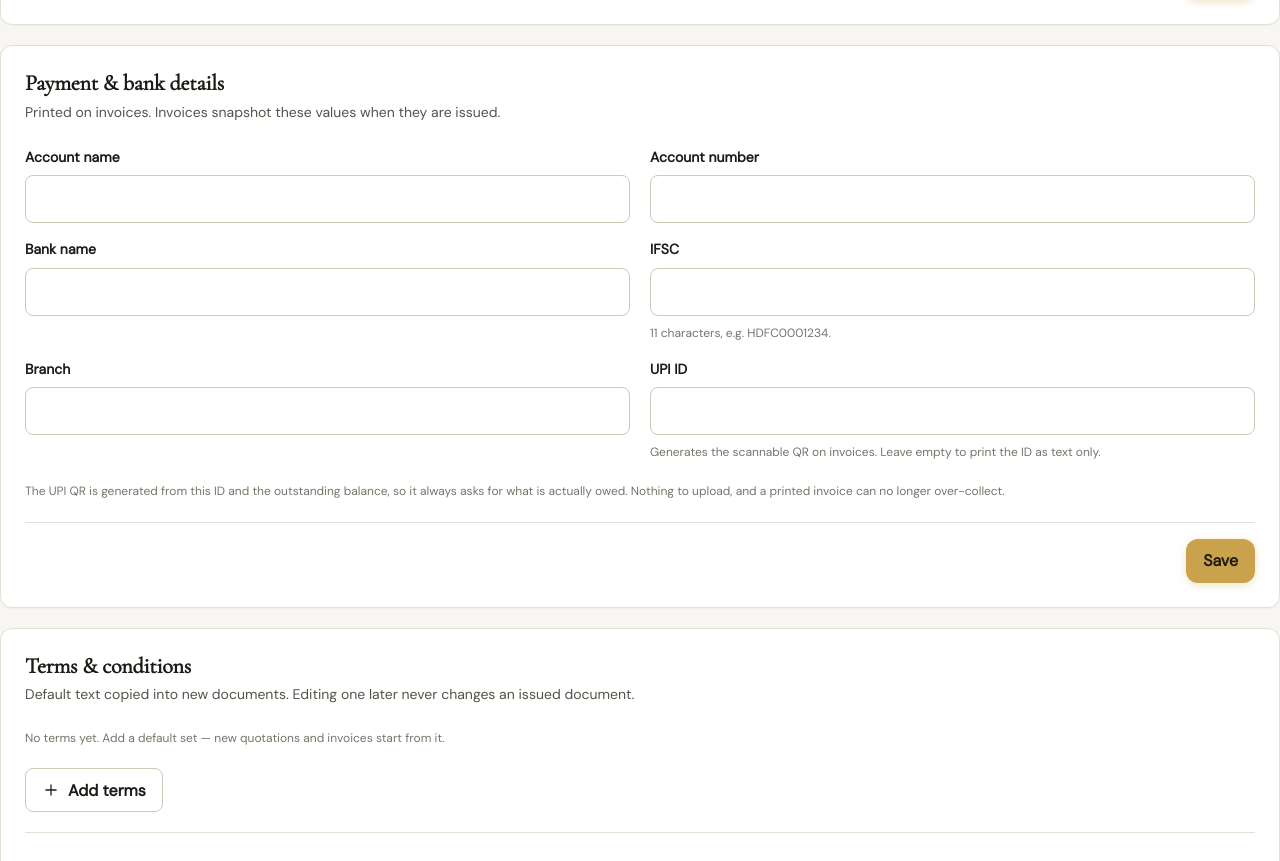
Test: settings — UPI ID › rejects a VPA with nothing on one side of the @
(page scrolled)
Type "@okaxis" into the field labelled "UPI ID".
click(952, 411); type("@okaxis")  # box [650,387,1255,435]
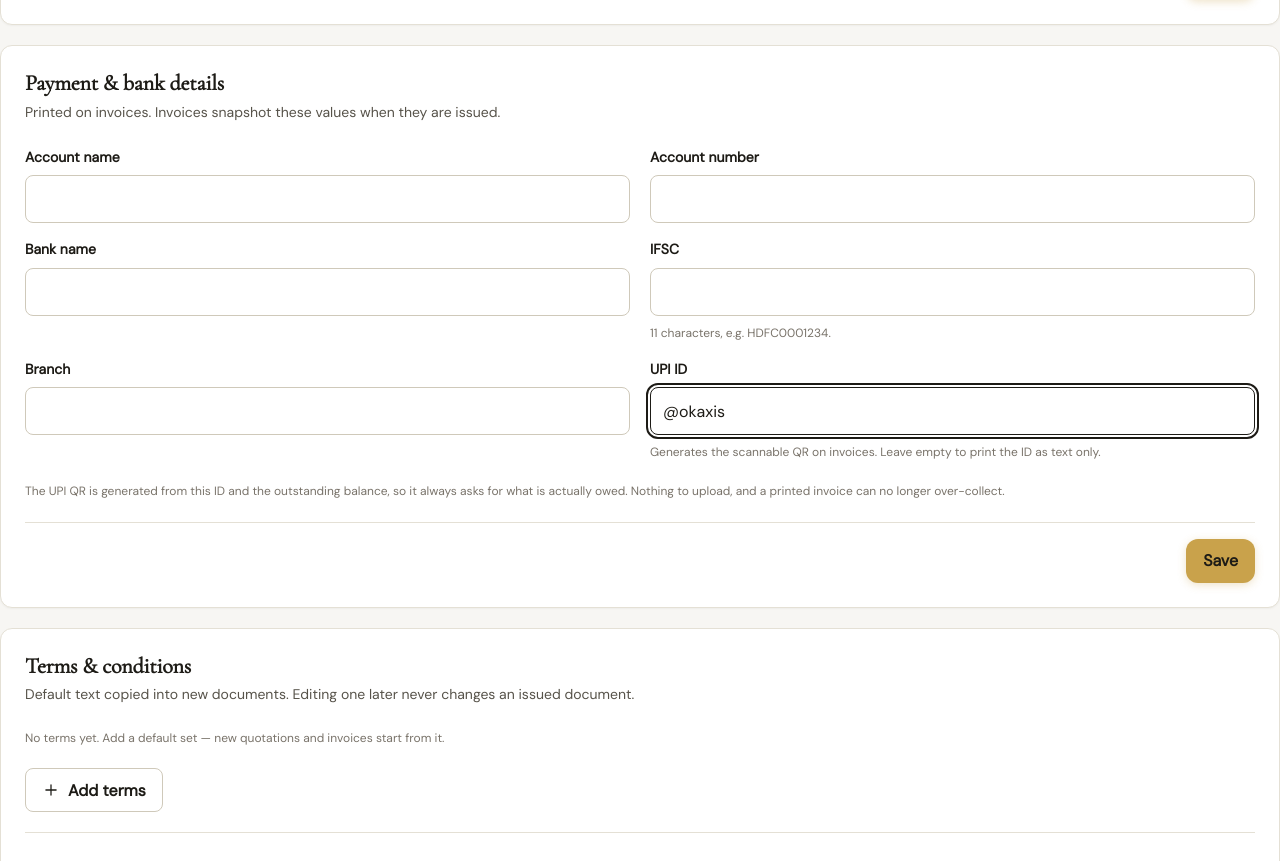
Click the 2nd button "Save".
click(1221, 560)  # box [1186,538,1255,582]
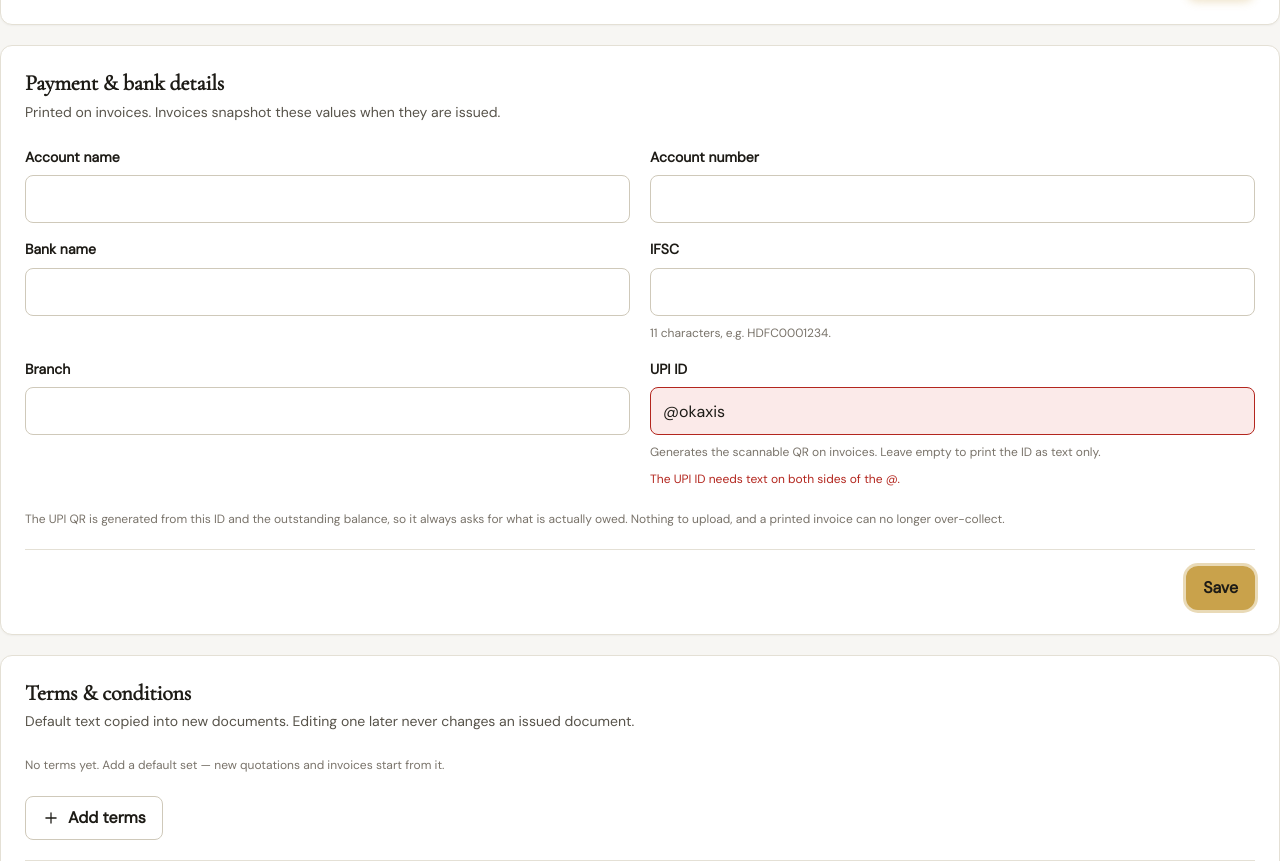
Check: the text "The UPI ID needs text on both sides of the @." is shown, box [650,471,900,487]
